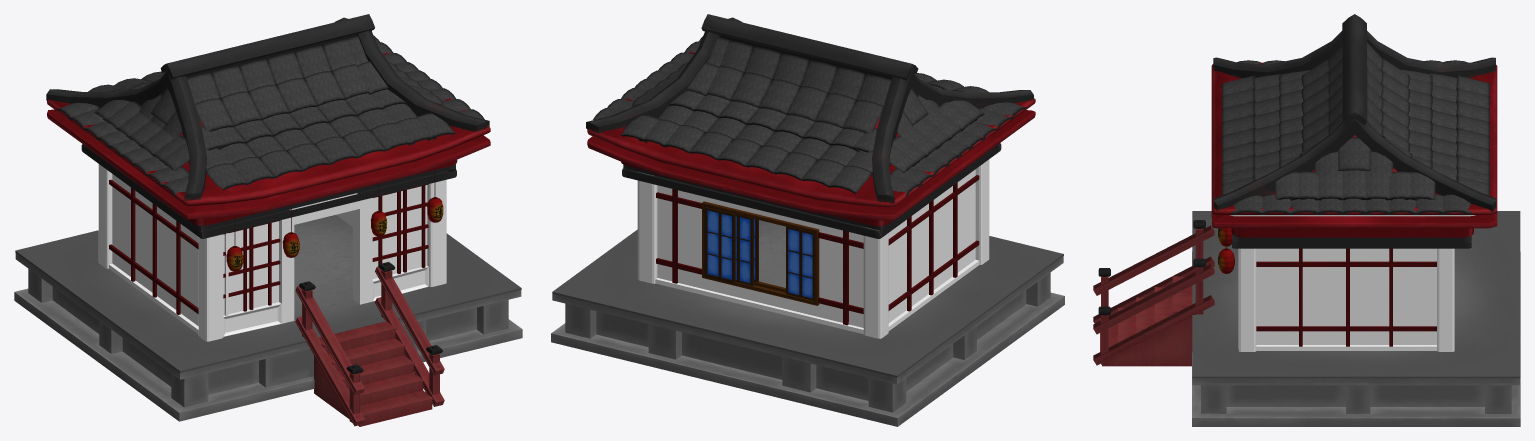
File: CASA.fbx
The picture shows the model from 3 angles, left to right: view 1: azimuth 30°, elevation 25°; view 2: azimuth 150°, elevation 25°; view 3: azimuth 270°, elevation 25°; orthographic projection.
Parts seen in each view (by area): view 1: Base, Tejas118, Tejado, BaseCasa, Palo_000, farolillo papel04; view 2: Base, Tejas118, Tejado, BaseCasa, Ventana, Palo_000; view 3: Base, Tejas118, Tejado, BaseCasa, Palo_000, farolillo papel04, tabla techo01.
Boxes of the visible parts, bbox=[...] form: Base: bbox=[14, 215, 522, 426]; Tejas118: bbox=[56, 35, 484, 196]; Tejado: bbox=[46, 14, 490, 238]; BaseCasa: bbox=[98, 164, 446, 341]; Palo_000: bbox=[109, 179, 428, 314]; farolillo papel04: bbox=[226, 168, 443, 271]; Base: bbox=[551, 220, 1064, 426]; Tejas118: bbox=[593, 36, 1026, 196]; Tejado: bbox=[586, 14, 1035, 238]; BaseCasa: bbox=[637, 159, 989, 338]; Ventana: bbox=[702, 201, 819, 305]; Palo_000: bbox=[656, 175, 979, 325]; Base: bbox=[1093, 211, 1520, 426]; Tejas118: bbox=[1221, 42, 1490, 214]; Tejado: bbox=[1211, 14, 1497, 248]; BaseCasa: bbox=[1238, 248, 1454, 351]; Palo_000: bbox=[1256, 248, 1436, 346]; farolillo papel04: bbox=[1218, 228, 1234, 273]; tabla techo01: bbox=[1229, 215, 1475, 216].
Size of the model in its own units: 272 by 217 by 295.
